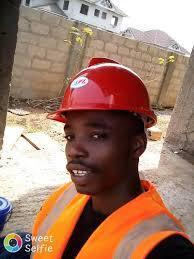helmet: (46, 57, 158, 127)
